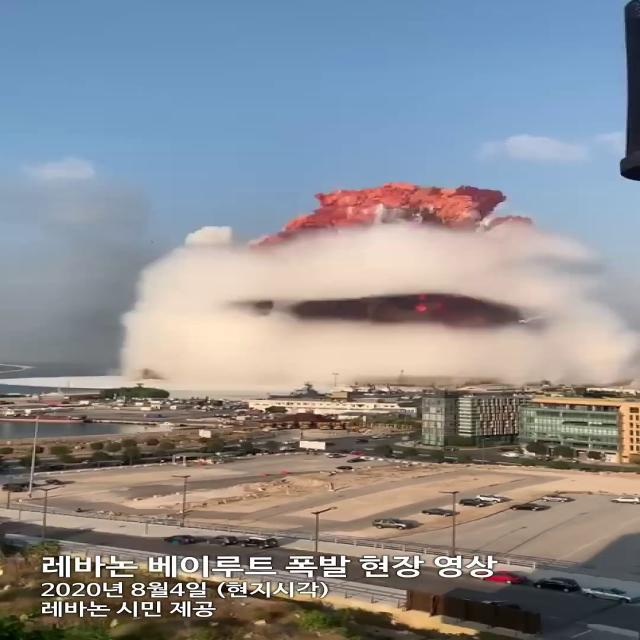explosion: (114, 185, 640, 422)
